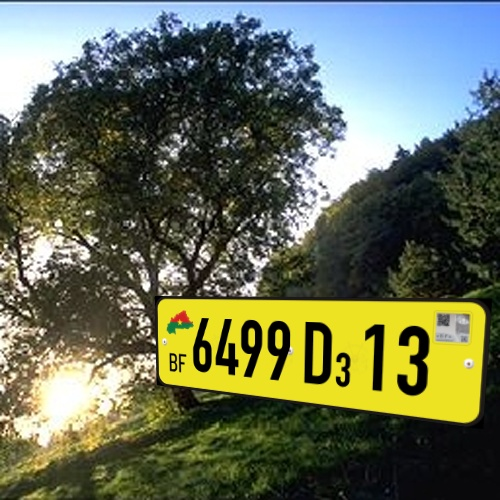plate: (148, 279, 496, 435)
